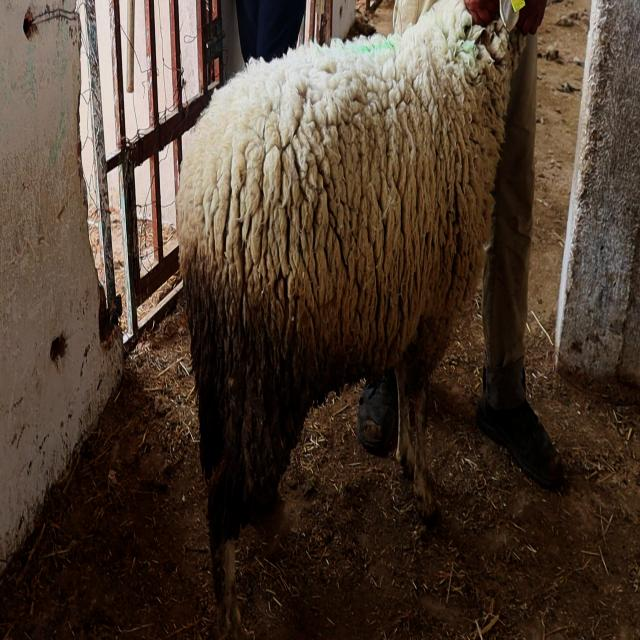Score_5: (177, 0, 531, 639)
